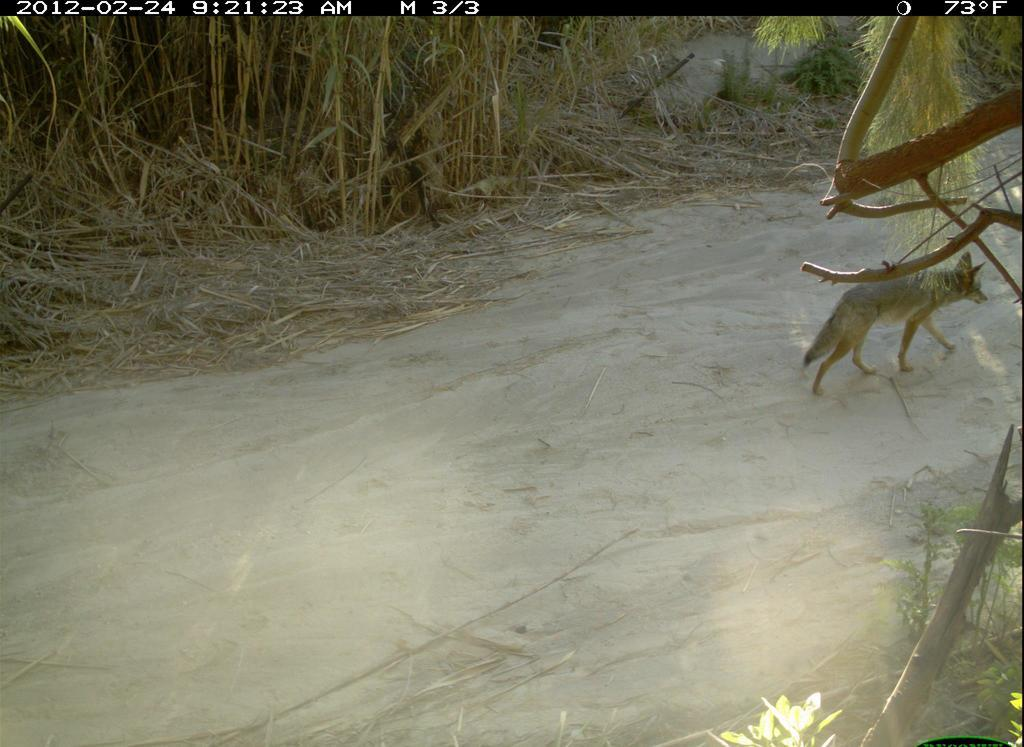coyote: (797, 250, 993, 408)
